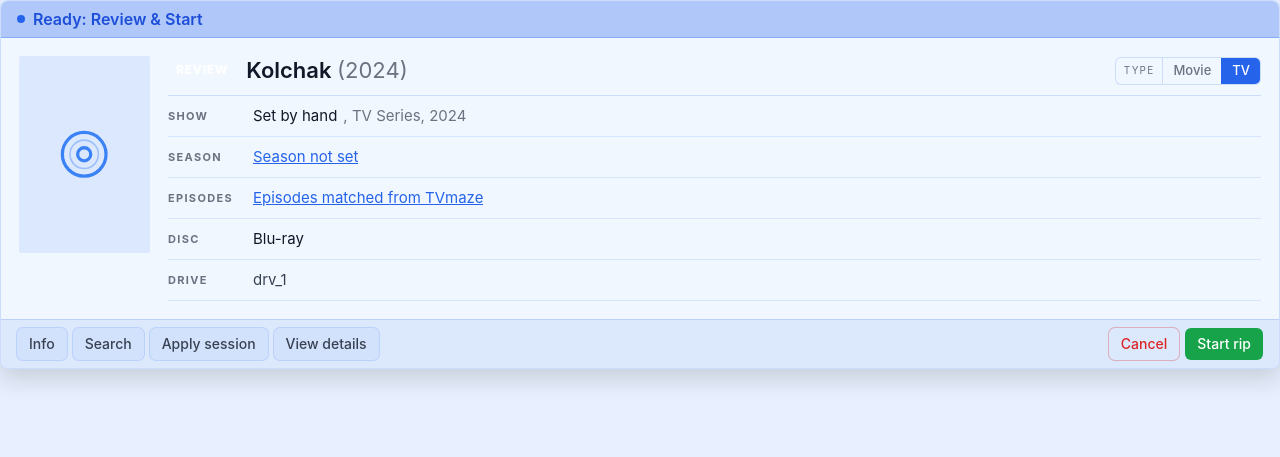
Test: DiscReviewWidget episode matching › the episode status line opens the panel in place
The image size is (1280, 457).
Click the button "Episodes matched from TVmaze" at (368, 198), box [253,186,483,208]
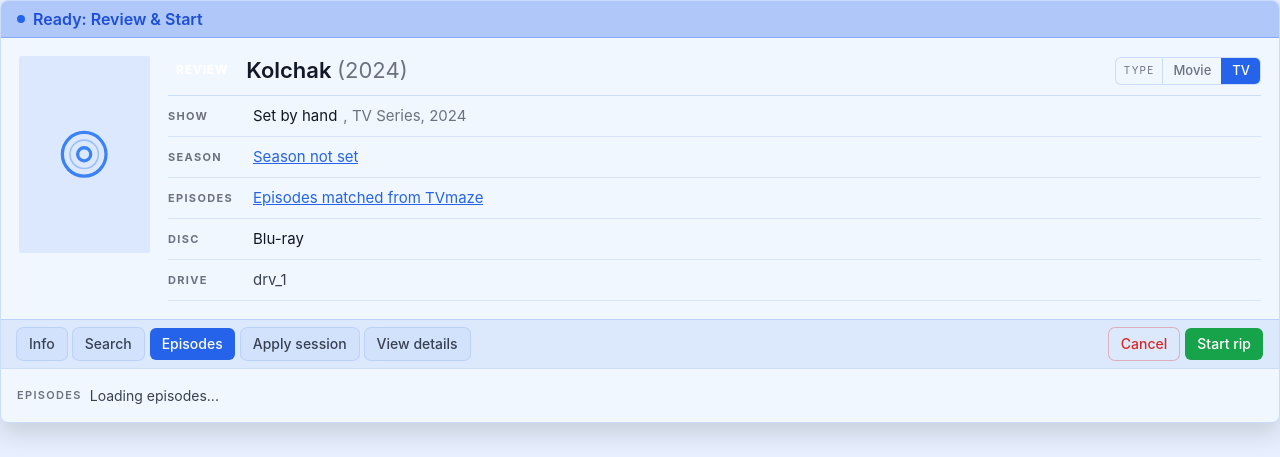
Expected: the element with test id "episode-panel" showing "Episodes Loading episodes..." is shown, [1,368,1279,422]
